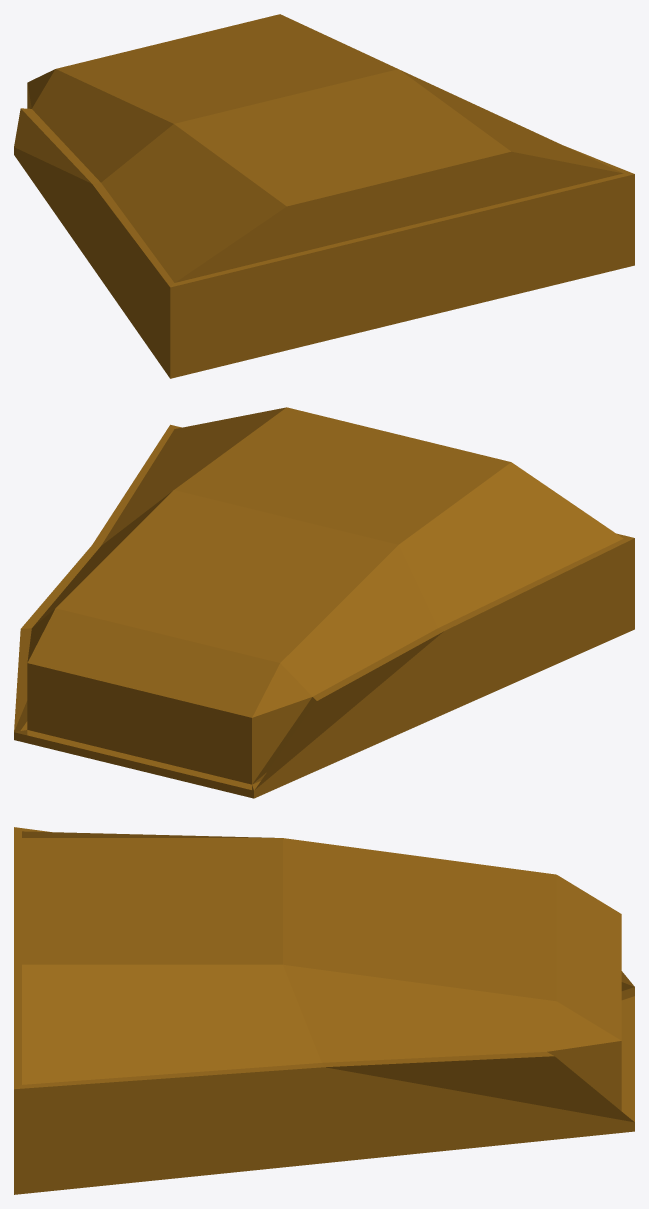
The model's file is stadium.obj.
3 renders of one model, top to bottom at view 1: azimuth 30°, elevation 25°; view 2: azimuth 150°, elevation 25°; view 3: azimuth 270°, elevation 25°, orthographic. The views are drawn at different scales.
Parts seen in each view (by area): view 1: Cube_Cube_Material.001; view 2: Cube_Cube_Material.001; view 3: Cube_Cube_Material.001.
Part boxes in pixels (box(x1,y1,x2,y2)): Cube_Cube_Material.001: box(14, 14, 634, 378); Cube_Cube_Material.001: box(14, 407, 634, 798); Cube_Cube_Material.001: box(14, 827, 634, 1194).
Size of the model in its own units: 29.12 by 8.42 by 29.15.
